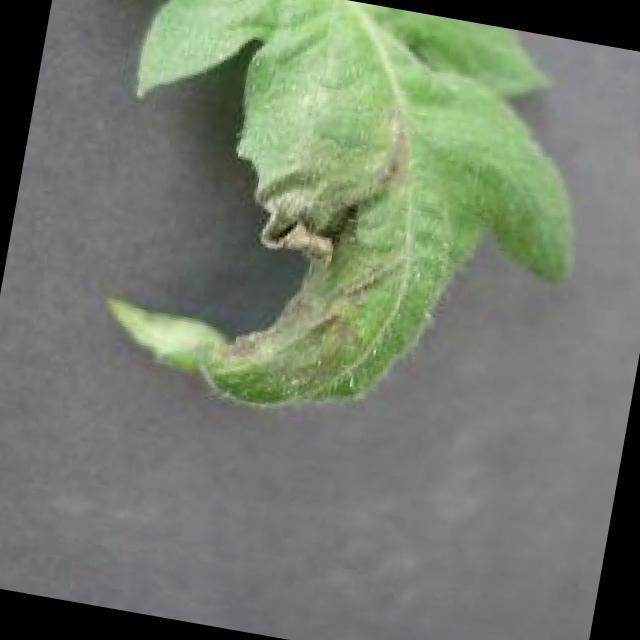Tomato late blight leaf: (77, 0, 614, 465)
